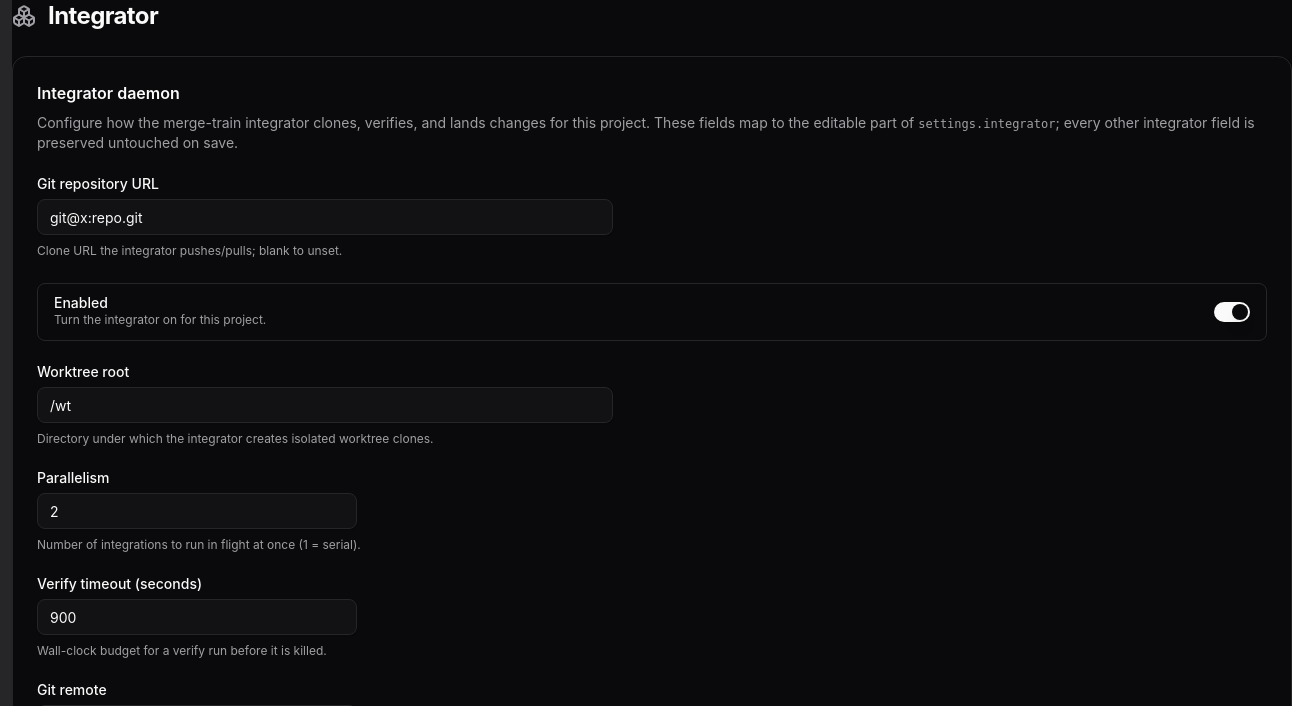
Test case: IntegratorPage — validation › disables Save when verify_timeout_sec is 0
Replace the text in the number field labelled "Verify timeout (seconds)" with "0" at {"x": 197, "y": 617}, box [37,599,357,635]
(page scrolled)
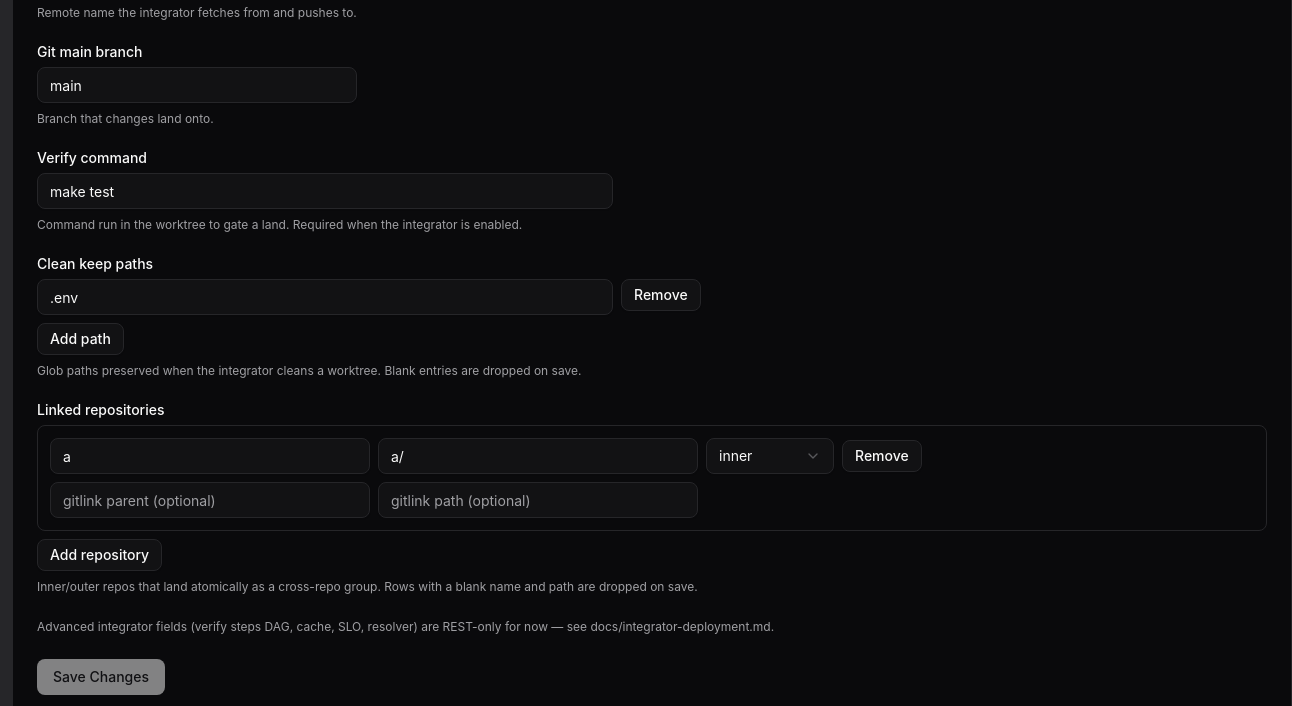
Now the button "Save Changes" is disabled, box [37,659,165,695]
